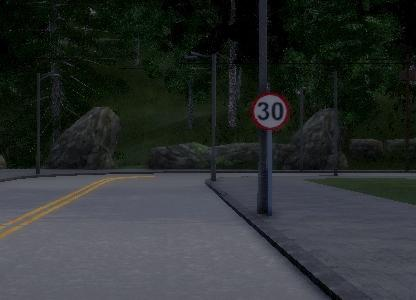Speed_30: (252, 90, 289, 130)
